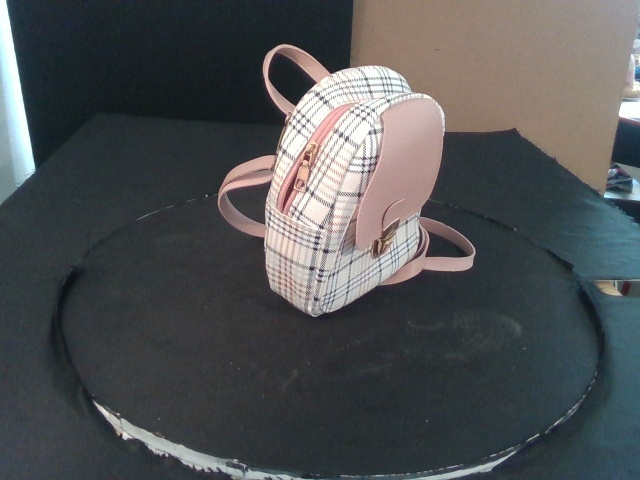bag: (264, 66, 446, 316)
